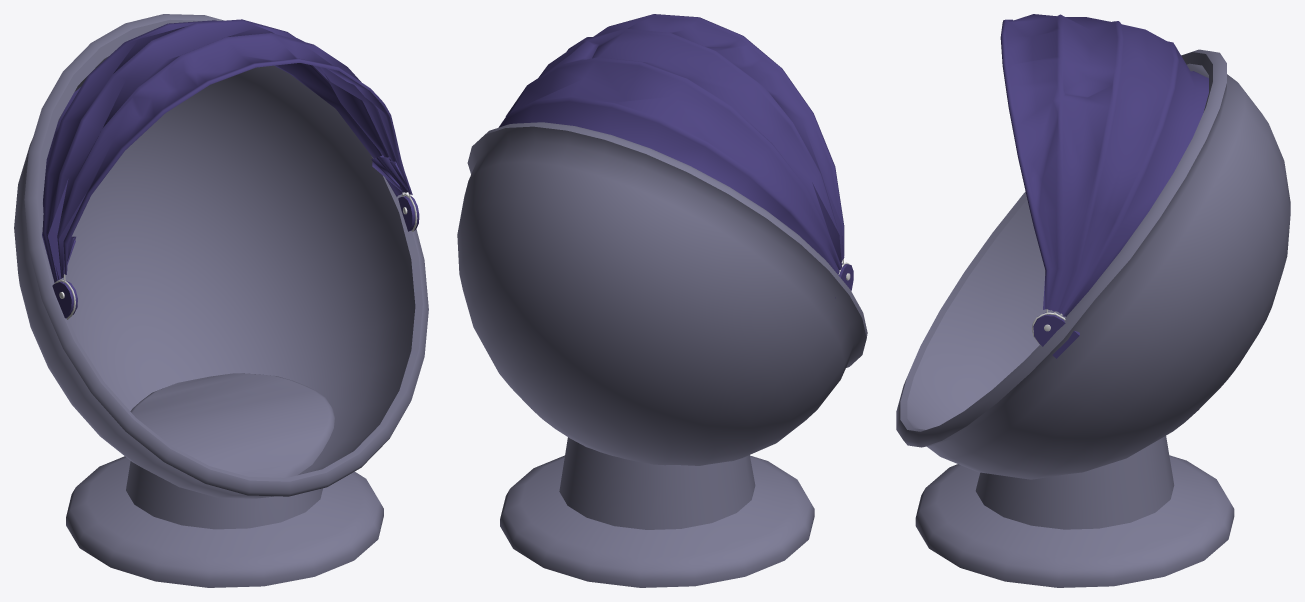
The model's file is IkeaPsLomskSwivelChair.FBX.
The picture shows the model from 3 angles, left to right: view 1: azimuth 30°, elevation 25°; view 2: azimuth 150°, elevation 25°; view 3: azimuth 270°, elevation 25°; orthographic projection.
Parts seen in each view (by area): view 1: IkeaPsLomskSwivelChair; view 2: IkeaPsLomskSwivelChair; view 3: IkeaPsLomskSwivelChair.
Boxes of the visible parts, x1=… form: IkeaPsLomskSwivelChair: x1=14, y1=14, x2=428, y2=587; IkeaPsLomskSwivelChair: x1=457, y1=14, x2=867, y2=587; IkeaPsLomskSwivelChair: x1=896, y1=14, x2=1290, y2=587.
Bounding box in the file's own units: 59 × 54.78 × 75.
